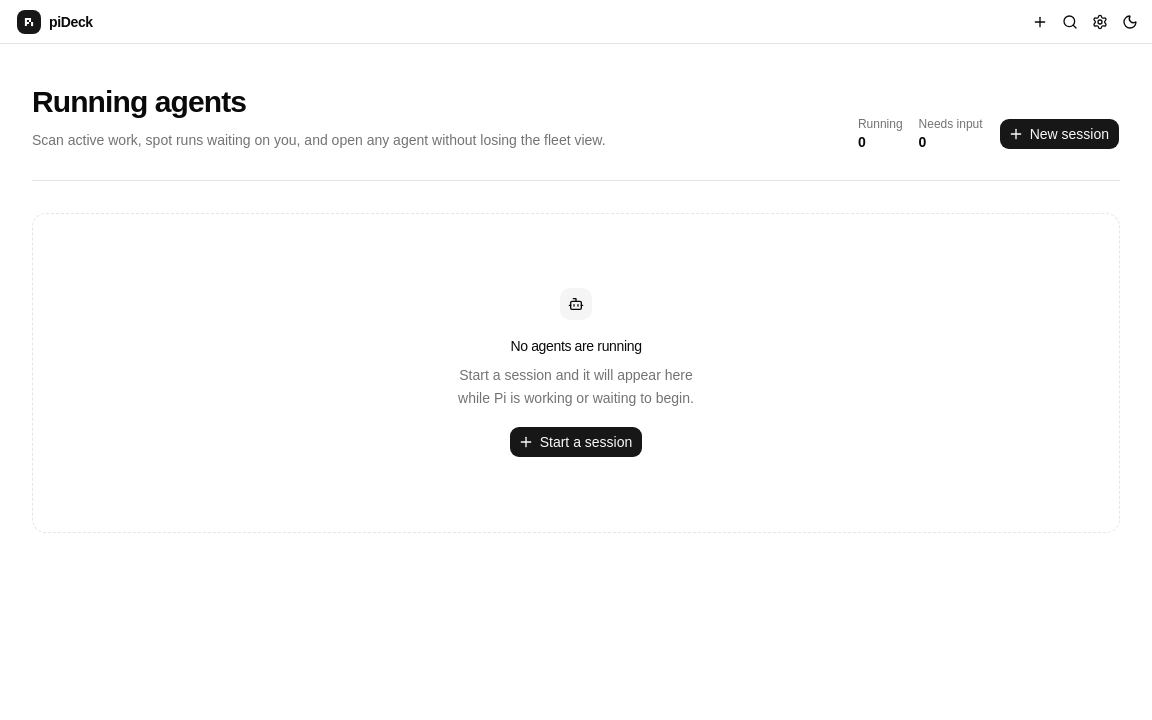
App › keeps command-k focused exclusively on switching sessions
Type keys "{Control>}k{/Control}"
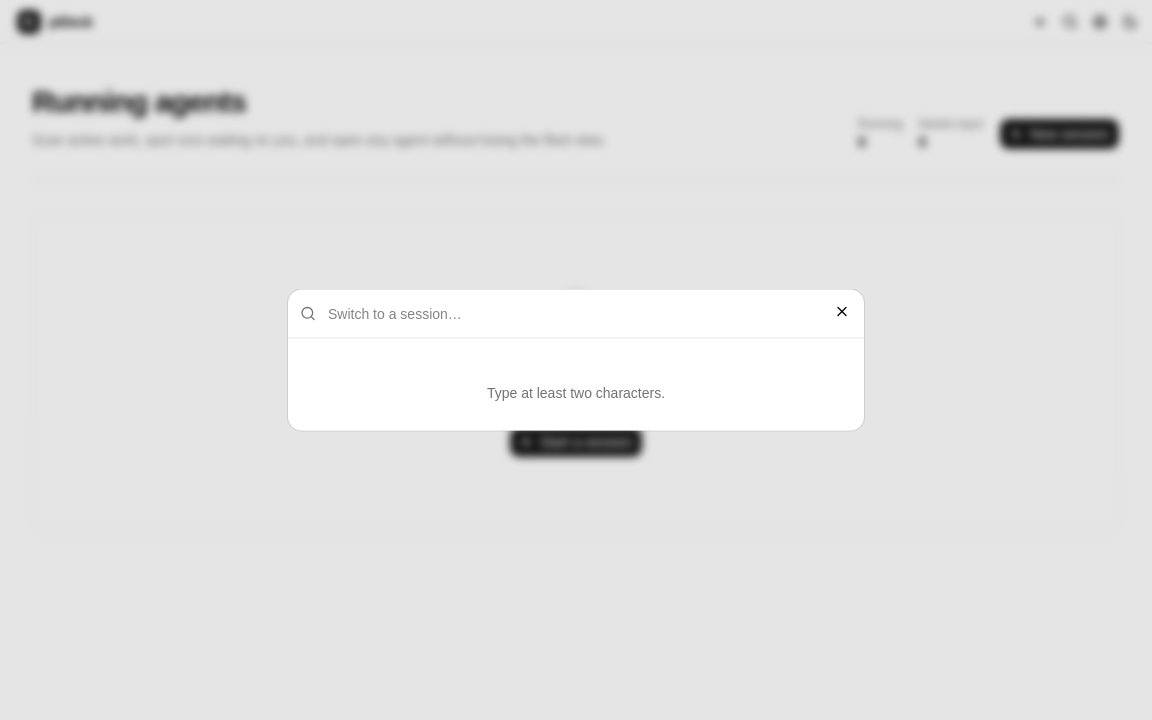
In the field with placeholder "Switch to a session…": (584, 314) [316, 290, 852, 338], type "Review"
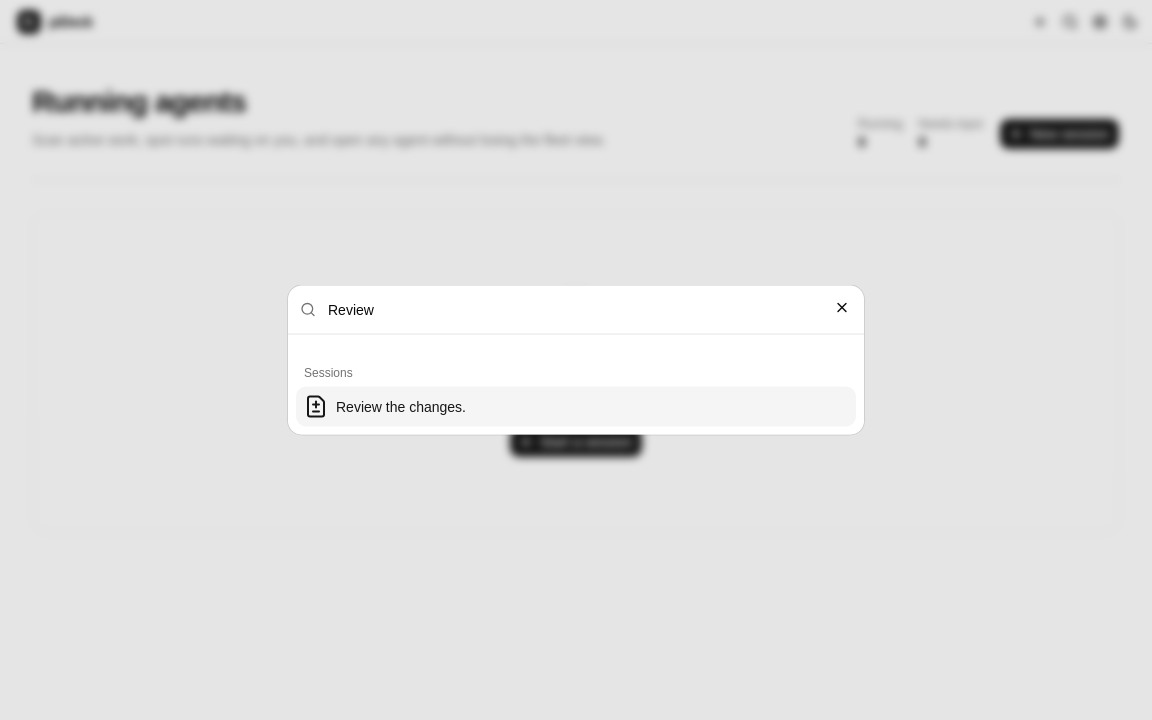
Expected: the option "Review the changes." is shown, [296, 386, 856, 426]
